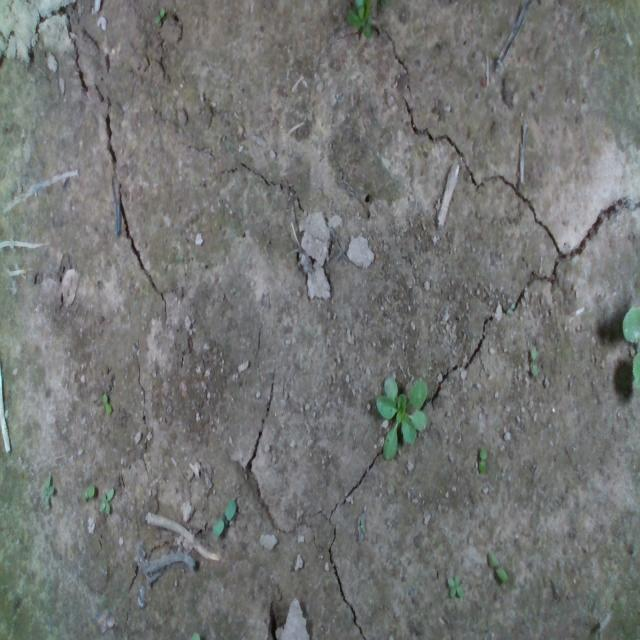weed: (212, 496, 236, 538), (486, 548, 508, 582), (41, 471, 55, 509), (98, 486, 114, 518), (446, 572, 464, 598), (529, 342, 539, 377), (477, 444, 488, 474), (82, 482, 95, 500), (101, 392, 111, 415)
